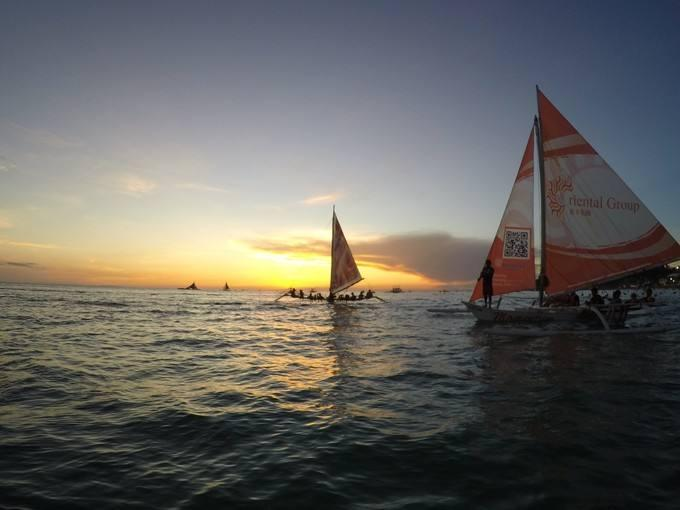fanchuan: (460, 82, 680, 326)
